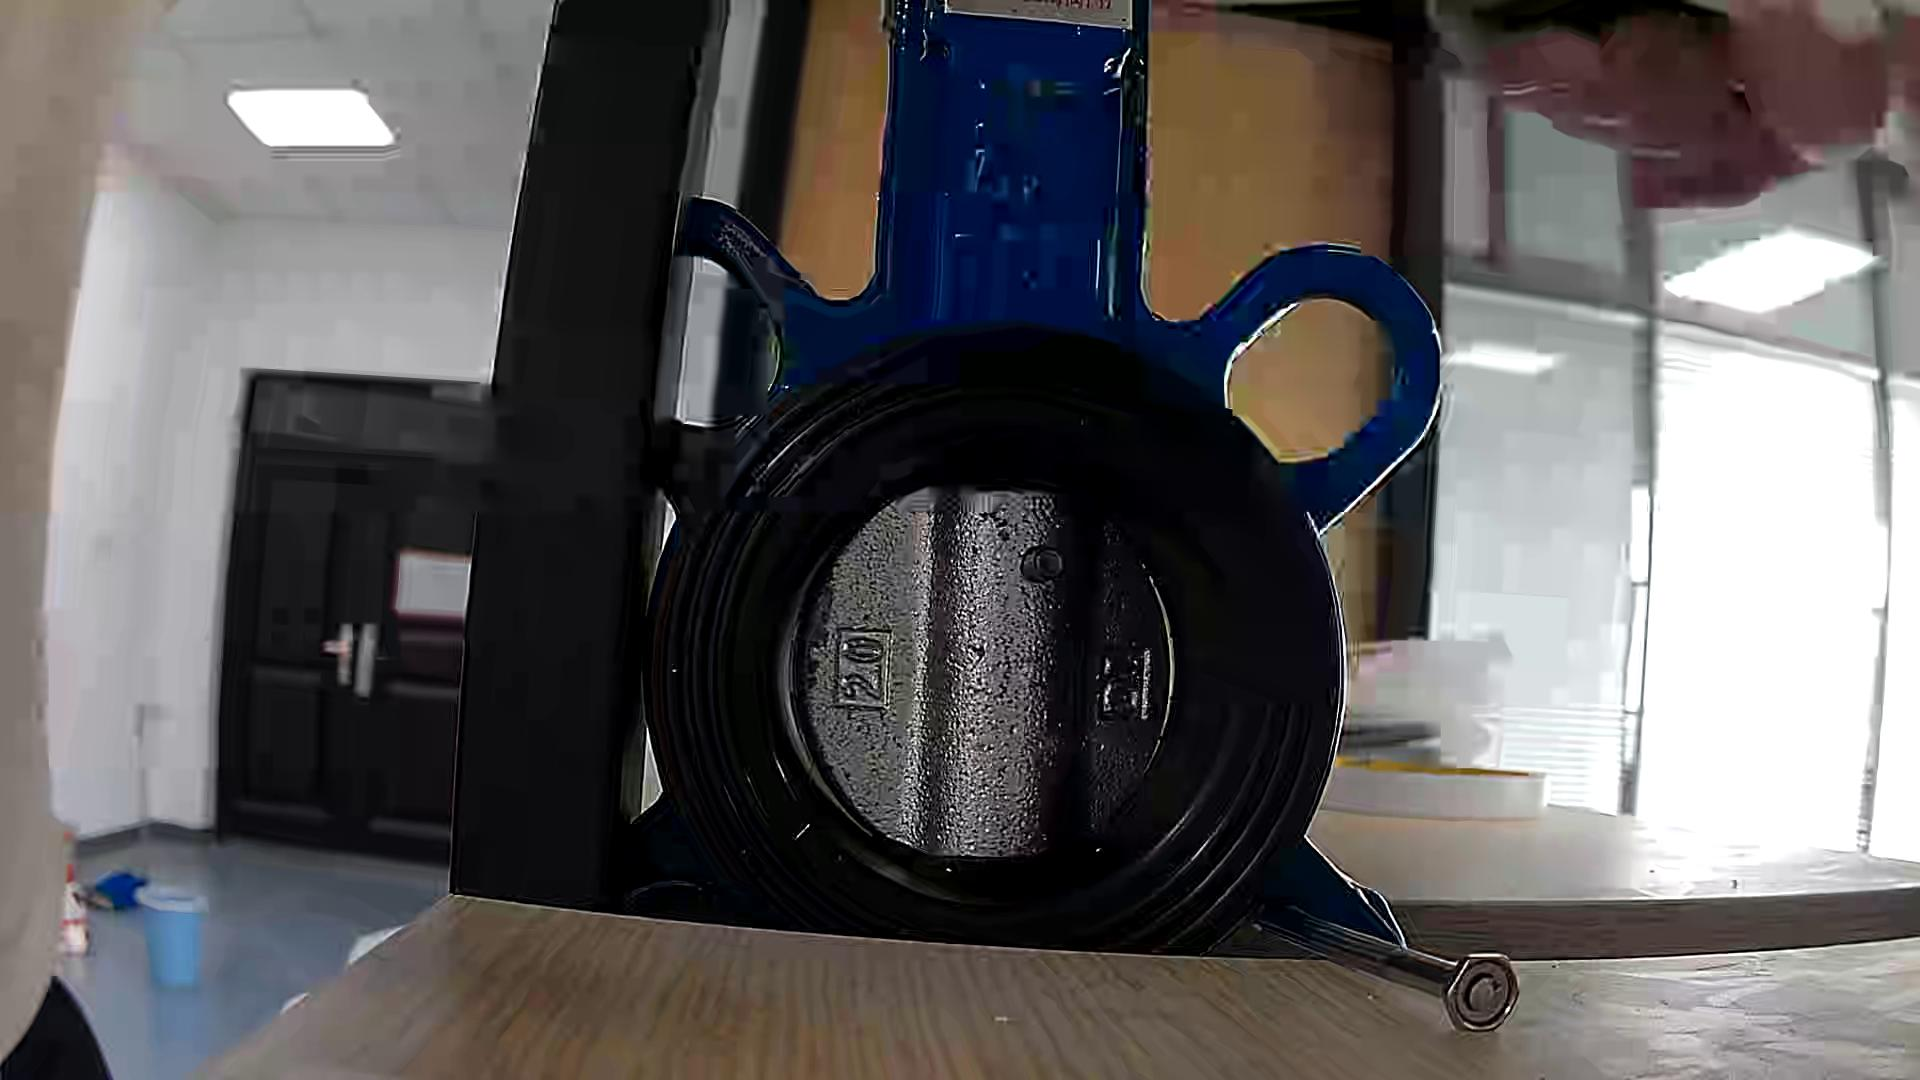valve: (787, 484, 1170, 860)
